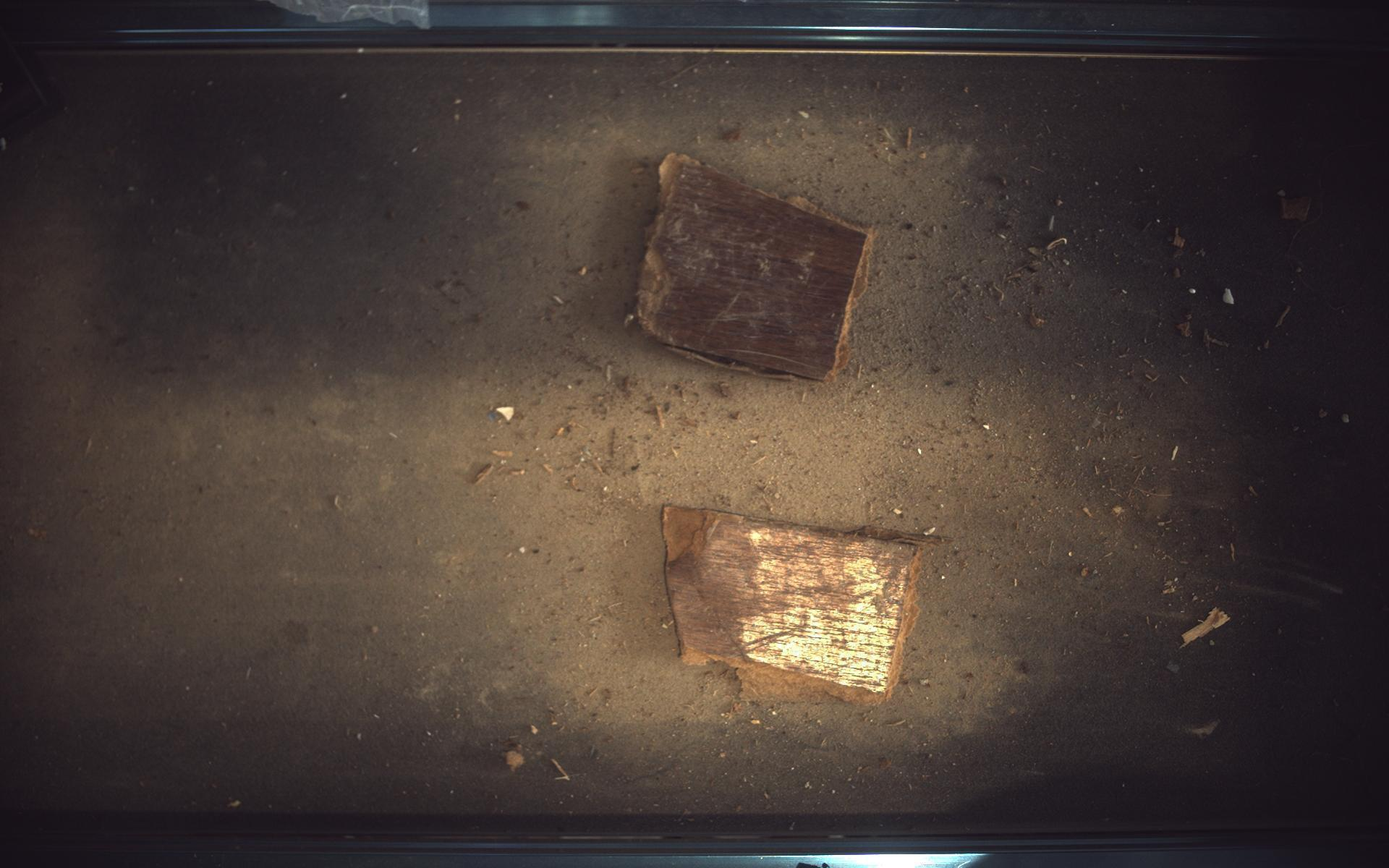wood: (663, 506, 945, 705), (637, 153, 876, 380)
